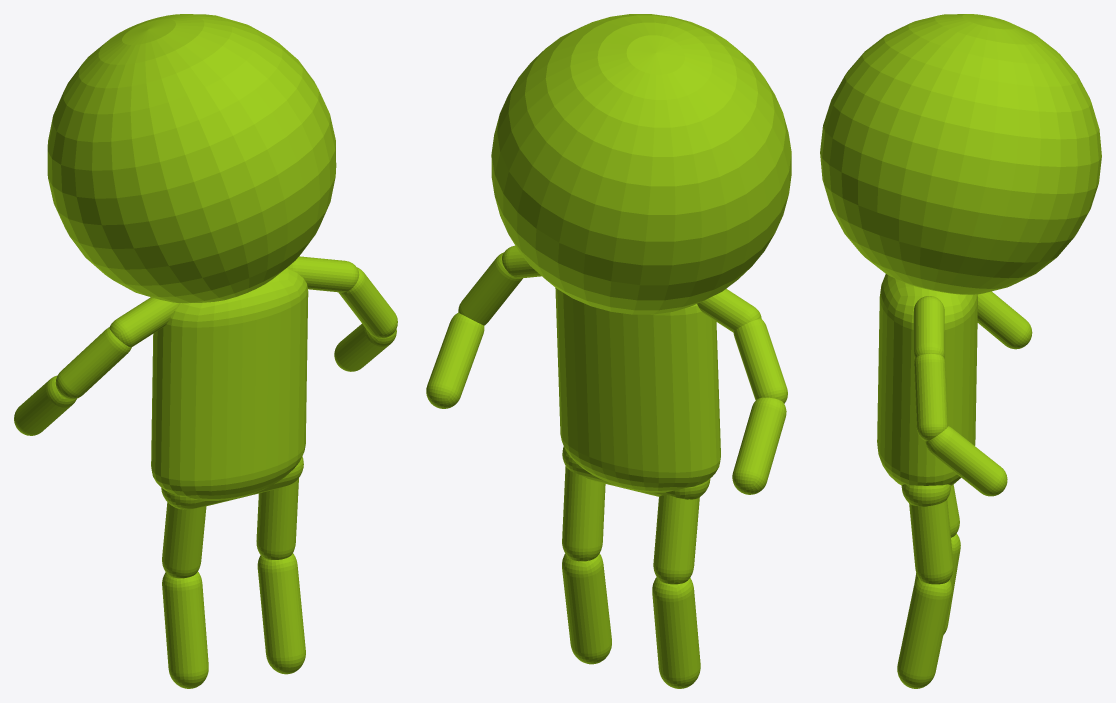
Rendered from Stickman_000065.obj.
3 views of the same model, side by side, from view 1: azimuth 30°, elevation 25°; view 2: azimuth 150°, elevation 25°; view 3: azimuth 270°, elevation 25° (orthographic). The views are drawn at different scales.
Parts seen in each view (by area): view 1: Head_Sphere.001, Body_Roundcube.002, LowerLegLeft_Roundcube.013, LowerLegRight_Roundcube.011, UpperLegLeft_Roundcube.012, UpperLegRight_Roundcube.010, UpperArmRight_Roundcube.015, UpperArmLeft_Roundcube.018, ShoulderRight_Roundcube.014, LowerArmRight_Roundcube.016, ShoulderLeft_Roundcube.017, LowerArmLeft_Roundcube.019 (+1 smaller); view 2: Head_Sphere.001, Body_Roundcube.002, LowerLegRight_Roundcube.011, LowerLegLeft_Roundcube.013, UpperLegRight_Roundcube.010, LowerArmRight_Roundcube.016, UpperLegLeft_Roundcube.012, LowerArmLeft_Roundcube.019, UpperArmRight_Roundcube.015, UpperArmLeft_Roundcube.018, ShoulderRight_Roundcube.014, Hip_Roundcube.005 (+1 smaller); view 3: Head_Sphere.001, Body_Roundcube.002, LowerLegLeft_Roundcube.013, UpperLegLeft_Roundcube.012, LowerArmLeft_Roundcube.019, UpperArmLeft_Roundcube.018, LowerArmRight_Roundcube.016, ShoulderLeft_Roundcube.017, Hip_Roundcube.005, LowerLegRight_Roundcube.011, UpperLegRight_Roundcube.010.
Boxes of the visible parts, x1,y1,x2,y2 form: Head_Sphere.001: (47, 14, 336, 303); Body_Roundcube.002: (151, 266, 308, 500); LowerLegLeft_Roundcube.013: (257, 553, 305, 674); LowerLegRight_Roundcube.011: (162, 571, 208, 688); UpperLegLeft_Roundcube.012: (256, 478, 298, 559); UpperLegRight_Roundcube.010: (162, 502, 206, 578); UpperArmRight_Roundcube.015: (55, 327, 131, 399); UpperArmLeft_Roundcube.018: (338, 267, 397, 338); ShoulderRight_Roundcube.014: (109, 297, 179, 347); LowerArmRight_Roundcube.016: (14, 375, 76, 435); ShoulderLeft_Roundcube.017: (289, 256, 359, 292); LowerArmLeft_Roundcube.019: (334, 324, 396, 371); Head_Sphere.001: (491, 14, 791, 314); Body_Roundcube.002: (555, 288, 720, 492); LowerLegRight_Roundcube.011: (652, 577, 700, 688); LowerLegLeft_Roundcube.013: (562, 553, 611, 664); UpperLegRight_Roundcube.010: (653, 495, 699, 584); LowerArmRight_Roundcube.016: (732, 397, 786, 494); UpperLegLeft_Roundcube.012: (562, 466, 605, 561); LowerArmLeft_Roundcube.019: (426, 312, 484, 408); UpperArmRight_Roundcube.015: (733, 318, 787, 403); UpperArmLeft_Roundcube.018: (458, 252, 522, 325); ShoulderRight_Roundcube.014: (697, 288, 761, 332); Hip_Roundcube.005: (562, 446, 710, 499); Head_Sphere.001: (820, 14, 1101, 294); Body_Roundcube.002: (877, 274, 977, 485); LowerLegLeft_Roundcube.013: (897, 577, 952, 688); UpperLegLeft_Roundcube.012: (909, 499, 953, 584); LowerArmLeft_Roundcube.019: (925, 426, 1007, 496); UpperArmLeft_Roundcube.018: (914, 353, 947, 441); LowerArmRight_Roundcube.016: (977, 291, 1032, 349); ShoulderLeft_Roundcube.017: (913, 296, 944, 358); Hip_Roundcube.005: (901, 484, 950, 506); LowerLegRight_Roundcube.011: (914, 533, 960, 634); UpperLegRight_Roundcube.010: (947, 484, 959, 537).
Bounding box in the file's own units: 6.94 × 12.59 × 5.13.
